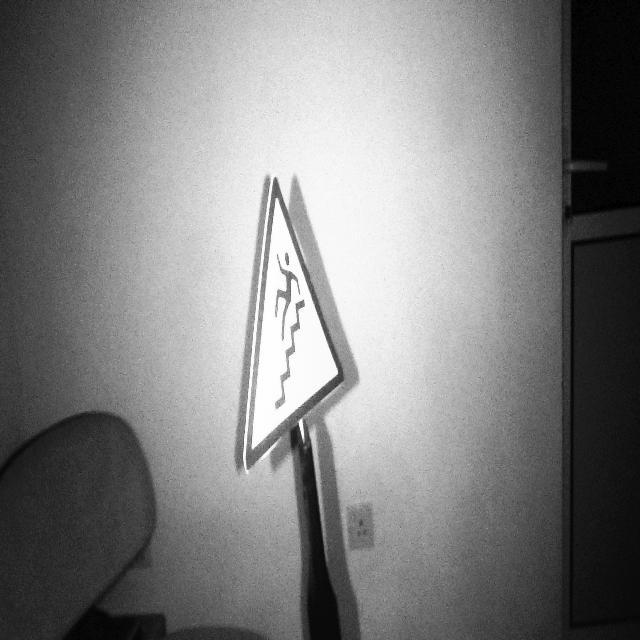Sign: (242, 173, 346, 476)
